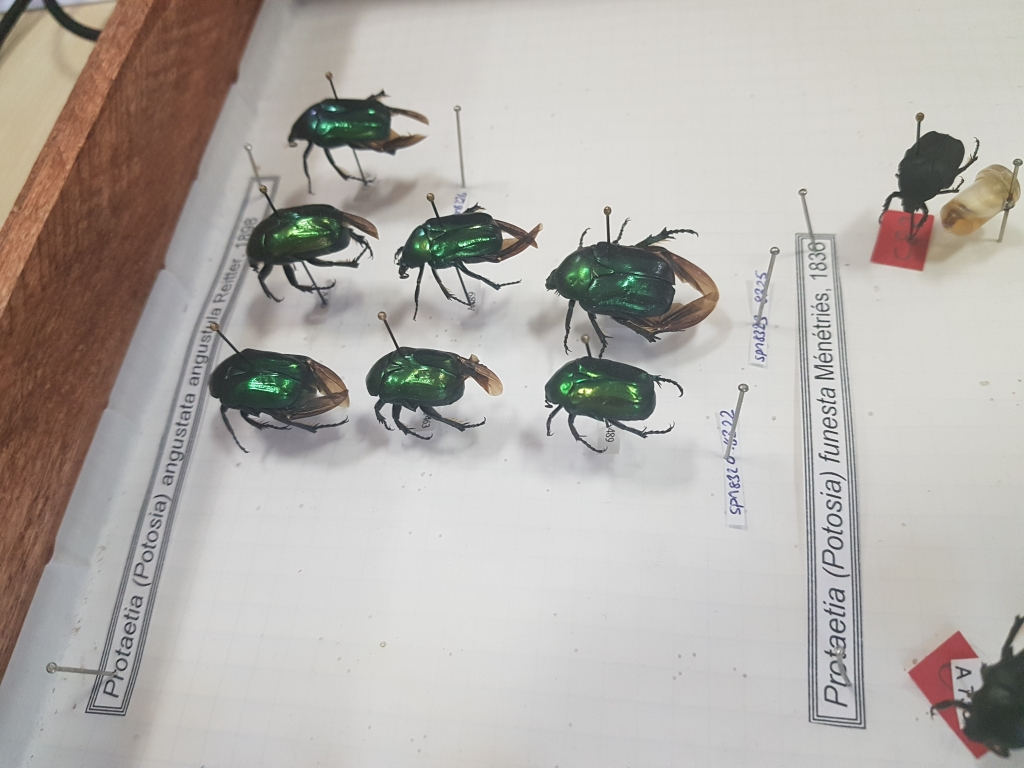Protaetia_angustata_angustata: (540, 210, 712, 350), (193, 345, 352, 455), (366, 333, 516, 445), (241, 194, 389, 303), (543, 344, 694, 446)
